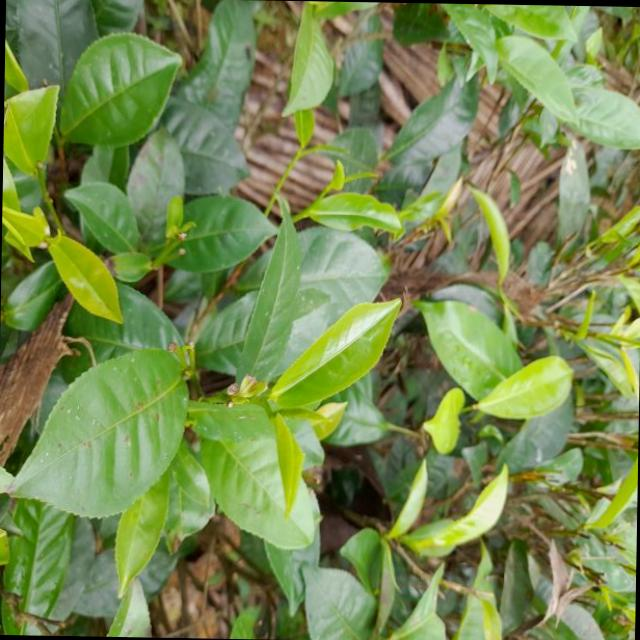Stem: (286, 151, 300, 171), (249, 394, 265, 406), (294, 209, 305, 221)
